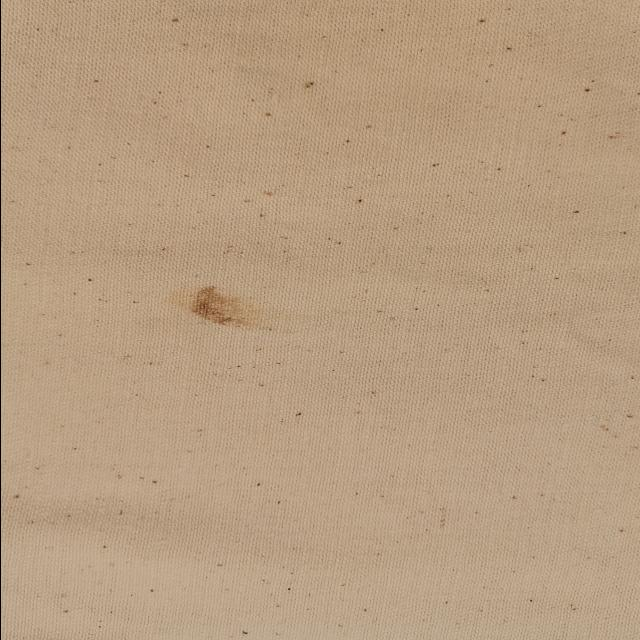taaaches: (179, 286, 281, 336)
